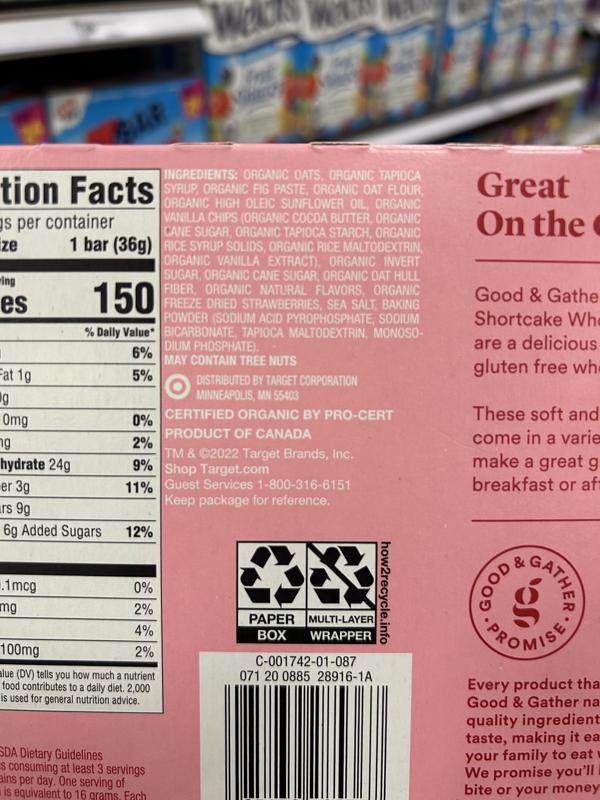ingredients: (162, 168, 424, 353)
